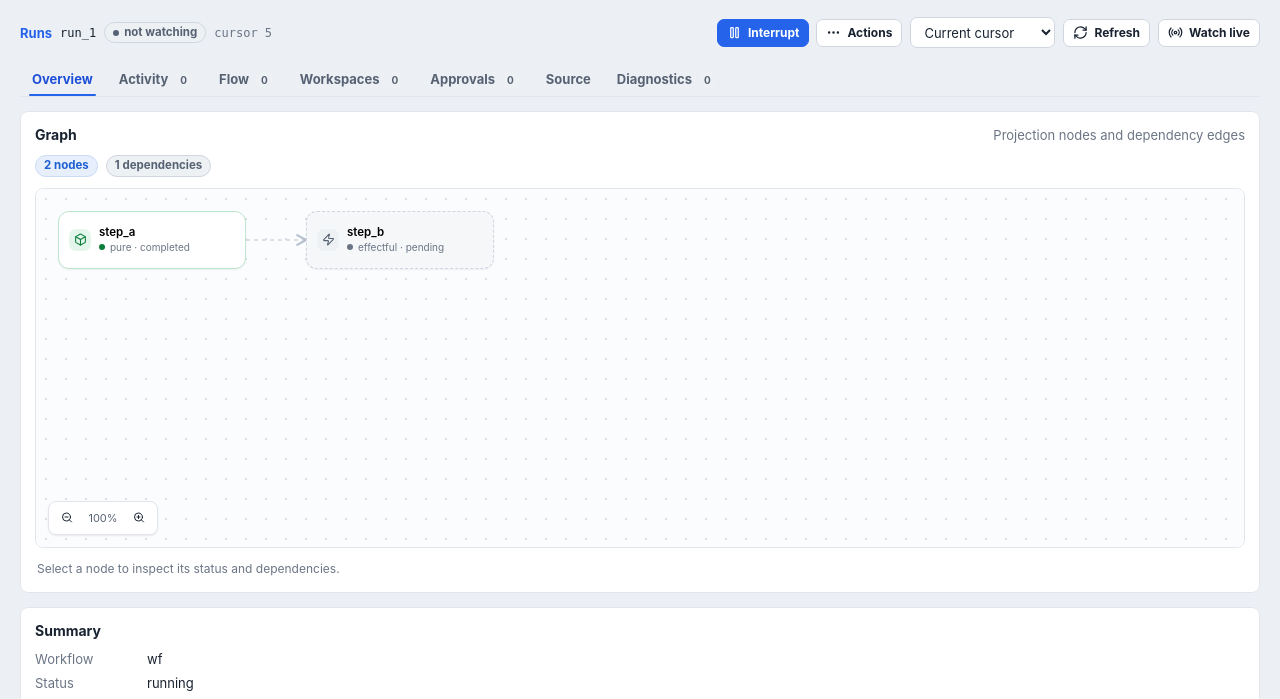
Scenario: RunDetailScreen › projects human approval parks from live events without refetching detail
Expected: the text "cursor 5" is shown, top-left (214, 26), bottom-right (272, 40)
Click the button "Watch live": (1209, 32) top-left (1158, 18), bottom-right (1260, 46)
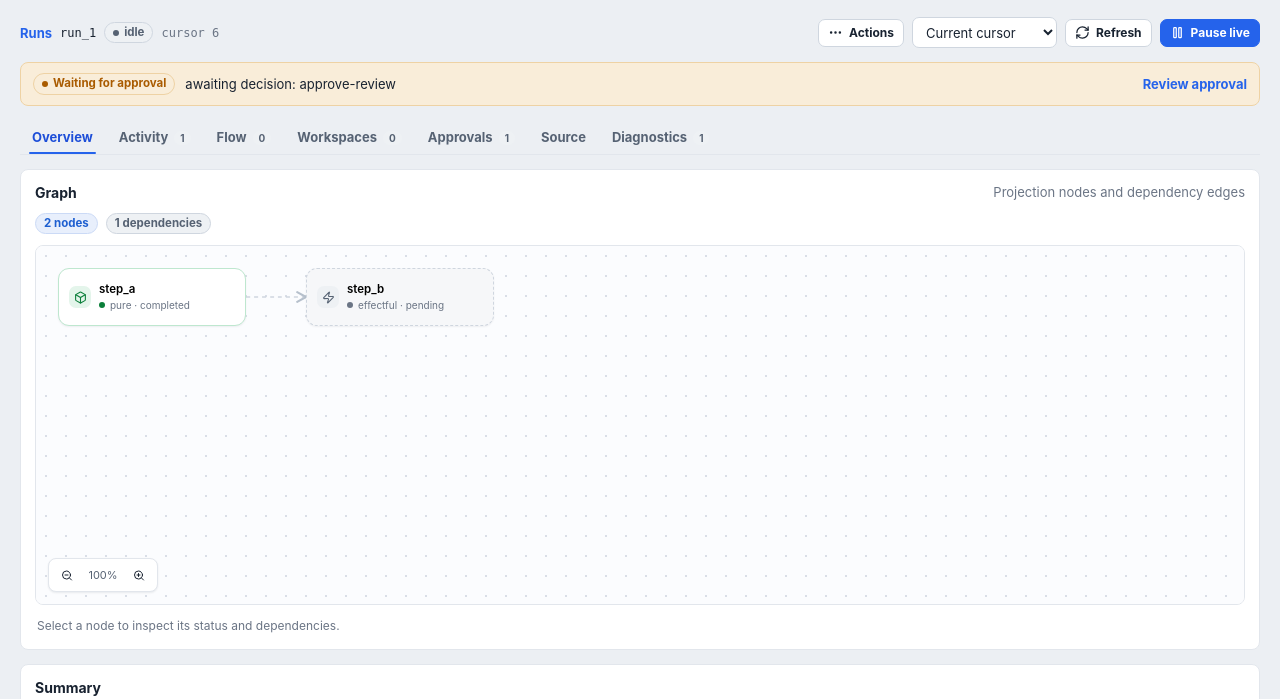
Click the tab "Approvals1": (471, 136) top-left (416, 120), bottom-right (527, 154)
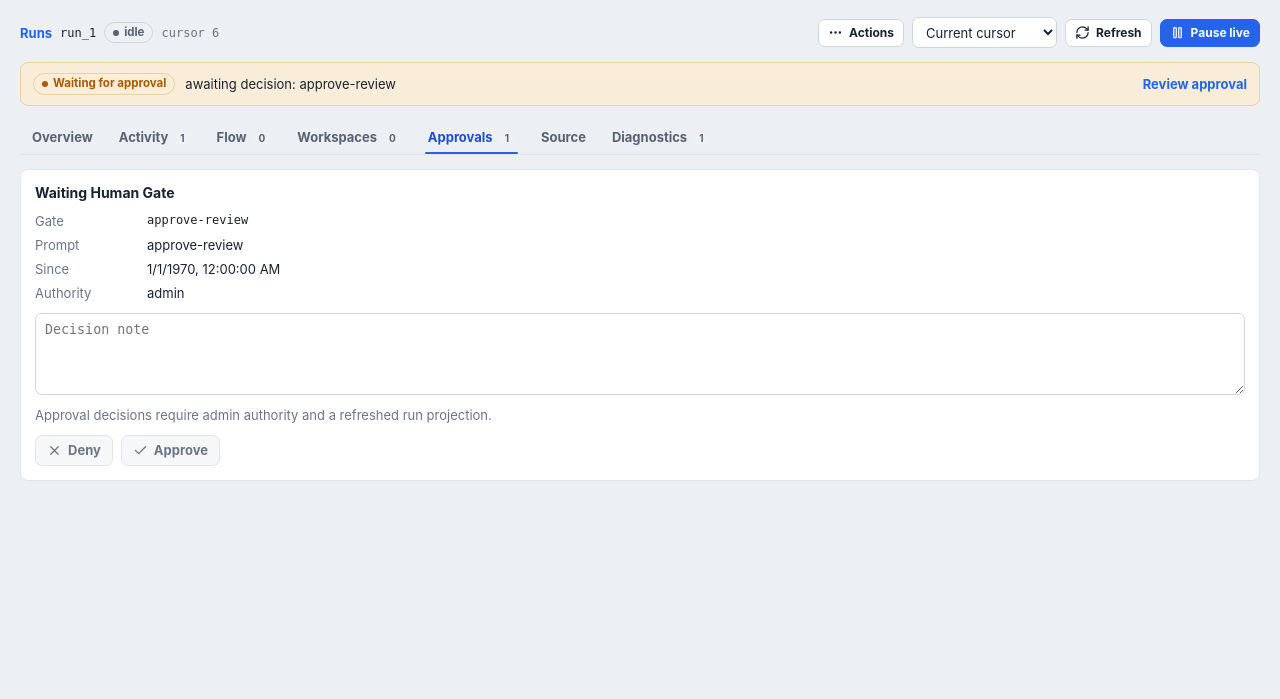
Now the 1st text "approve-review" is shown, box top-left (147, 212), bottom-right (248, 226)
Now the text "Approval decisions require admin authority and a refreshed run projection." is shown, box top-left (35, 406), bottom-right (492, 422)
Now the button "Approve" is disabled, box top-left (121, 434), bottom-right (220, 466)
